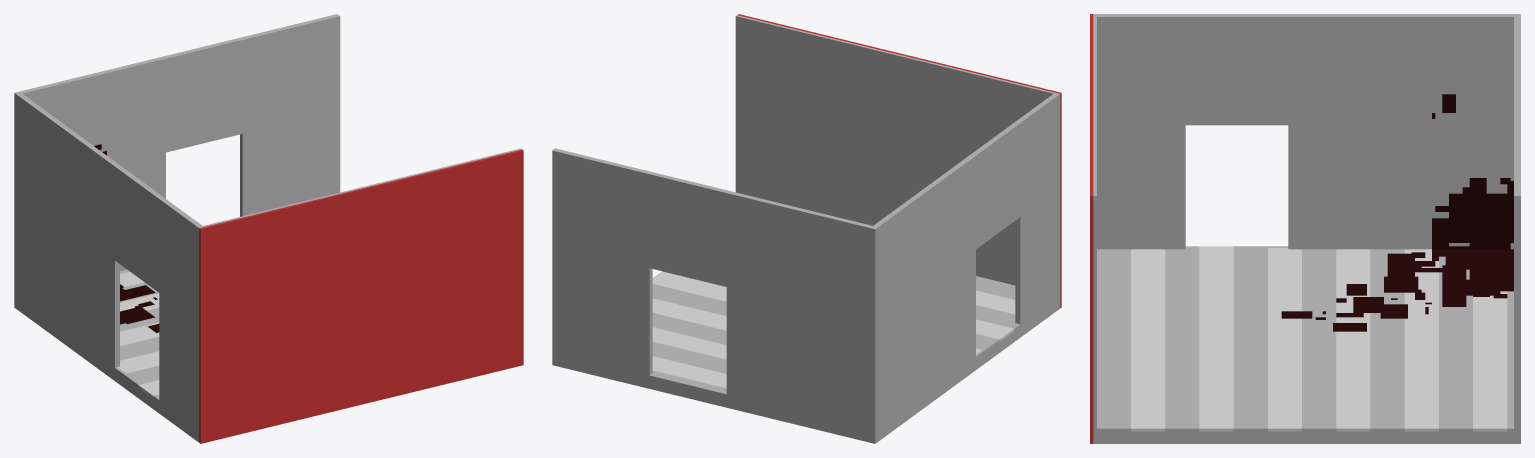
Rendered from 4x2 first (2)-5.obj.
The picture shows the model from 3 angles, left to right: view 1: azimuth 30°, elevation 25°; view 2: azimuth 150°, elevation 25°; view 3: azimuth 270°, elevation 25°; orthographic projection. The views are drawn at different scales.
Parts seen in each view (by area): view 1: 4x2 first (2)-5; view 2: 4x2 first (2)-5; view 3: 4x2 first (2)-5.
Part boxes in pixels (x1,y1,x2,y2): 4x2 first (2)-5: (14, 14, 523, 443); 4x2 first (2)-5: (552, 14, 1061, 443); 4x2 first (2)-5: (1090, 14, 1520, 443).
Bounding box in the file's own units: 126 × 80 × 126.
1 material, 1 textured.
